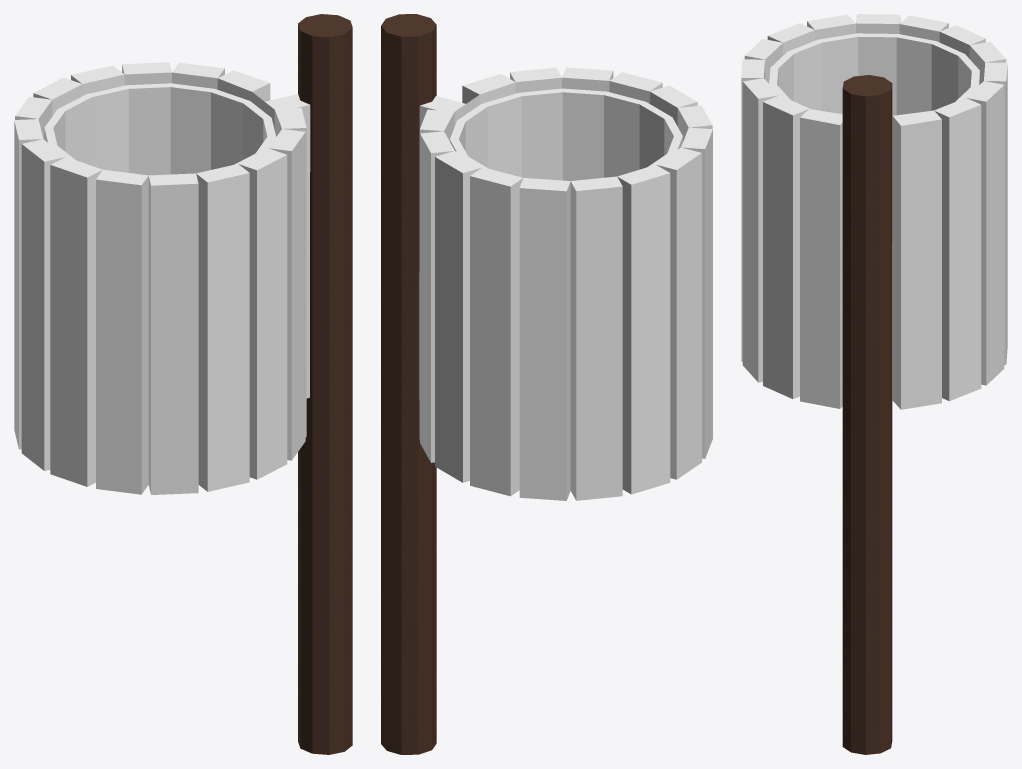
Rendered from basura2.fbx.
3 views of the same model, side by side, from view 1: azimuth 30°, elevation 25°; view 2: azimuth 150°, elevation 25°; view 3: azimuth 270°, elevation 25° (orthographic). The views are drawn at different scales.
Parts seen in each view (by area): view 1: basura2; view 2: basura2; view 3: basura2.
Boxes of the visible parts, box(x1,y1,x2,y2) form: basura2: box(14, 14, 352, 754); basura2: box(381, 14, 712, 754); basura2: box(741, 14, 1007, 754).
Size of the model in its own units: 246 by 542 by 199.
